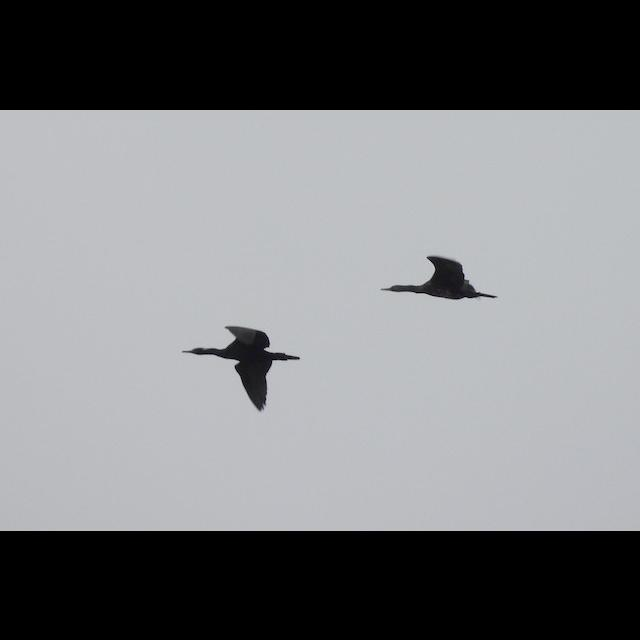cormorant: (177, 322, 299, 410), (377, 250, 499, 318)
